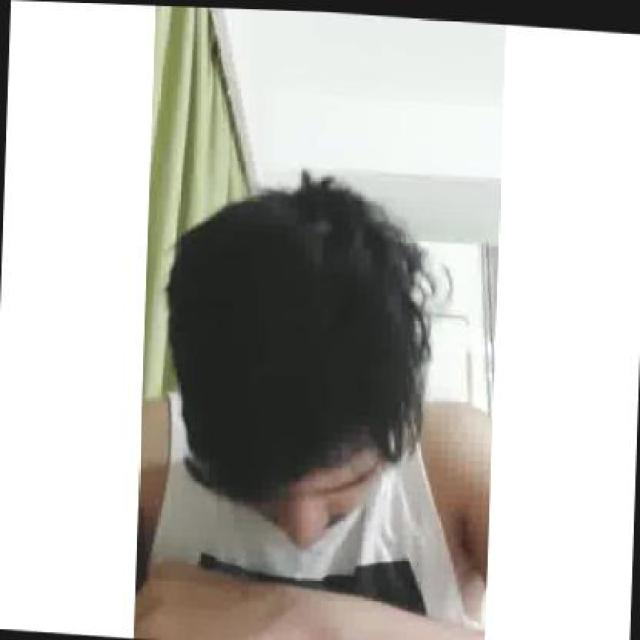inattentif: (167, 175, 396, 553)
